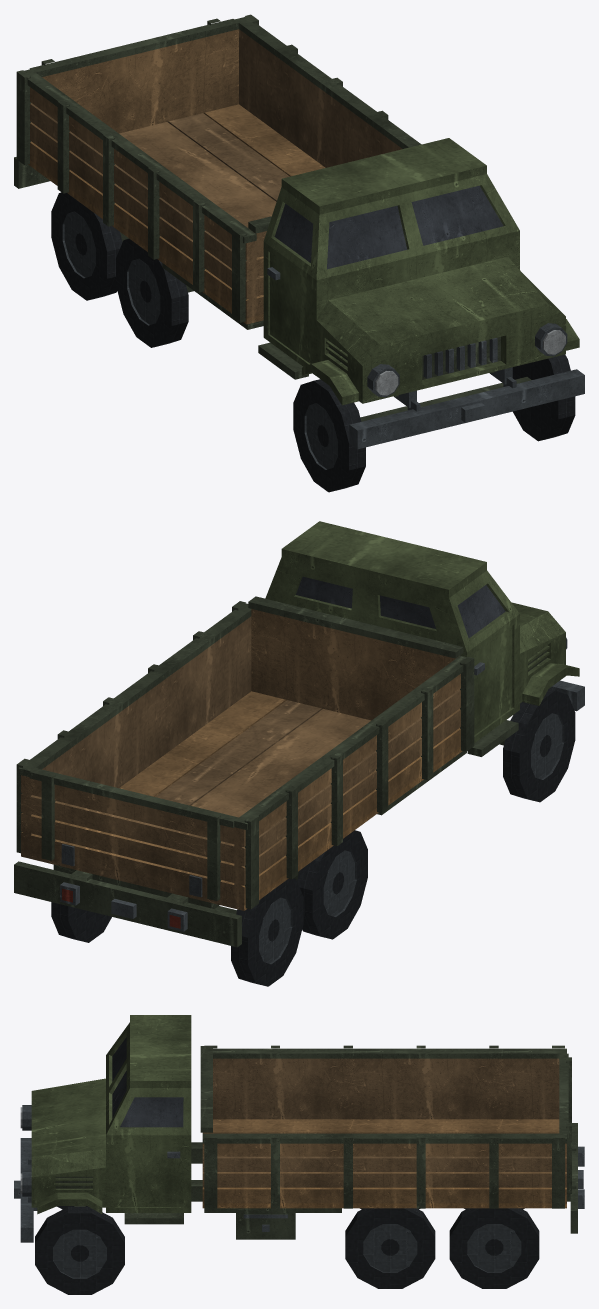
File: near_truck.glb
3 views of the same model, one above another, from view 1: azimuth 30°, elevation 25°; view 2: azimuth 150°, elevation 25°; view 3: azimuth 270°, elevation 25° (orthographic). The views are drawn at different scales.
Parts seen in each view (by area): view 1: truck-body, tyre-fl, tyre-ml, tyre-rl, tyre-fr; view 2: truck-body, tyre-fl, tyre-rl, tyre-ml, tyre-rr; view 3: truck-body, tyre-fr, tyre-mr, tyre-rr, stowage-box.
Boxes of the visible parts, bbox=[...] form: truck-body: bbox=[14, 14, 584, 449]; tyre-fl: bbox=[293, 379, 365, 492]; tyre-ml: bbox=[116, 238, 188, 347]; tyre-rl: bbox=[51, 192, 122, 300]; tyre-fr: bbox=[512, 354, 575, 441]; truck-body: bbox=[14, 521, 584, 947]; tyre-fl: bbox=[503, 689, 575, 802]; tyre-rl: bbox=[231, 878, 303, 986]; tyre-ml: bbox=[297, 830, 367, 939]; tyre-rr: bbox=[51, 902, 111, 942]; truck-body: bbox=[14, 1015, 584, 1242]; tyre-fr: bbox=[35, 1206, 124, 1294]; tyre-mr: bbox=[345, 1208, 435, 1288]; tyre-rr: bbox=[449, 1208, 539, 1288]; stowage-box: bbox=[236, 1213, 295, 1239].
Size of the model in its own units: 2.38 by 2.4 by 6.14.
2 materials, 2 textured.
